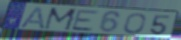5: (150, 15, 173, 36)
6: (97, 10, 123, 34)
A: (19, 6, 46, 30)
E: (70, 9, 102, 32)
M: (42, 7, 80, 32)
O: (122, 13, 147, 35)
